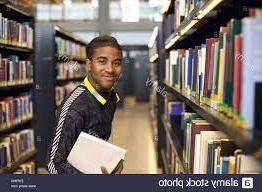not_fallen: (49, 32, 129, 176)
